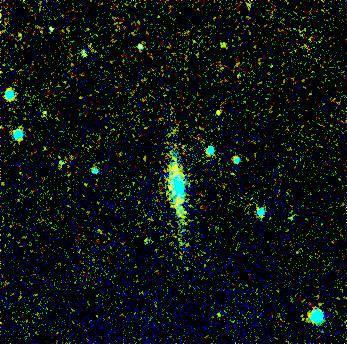star: (202, 99, 232, 129)
